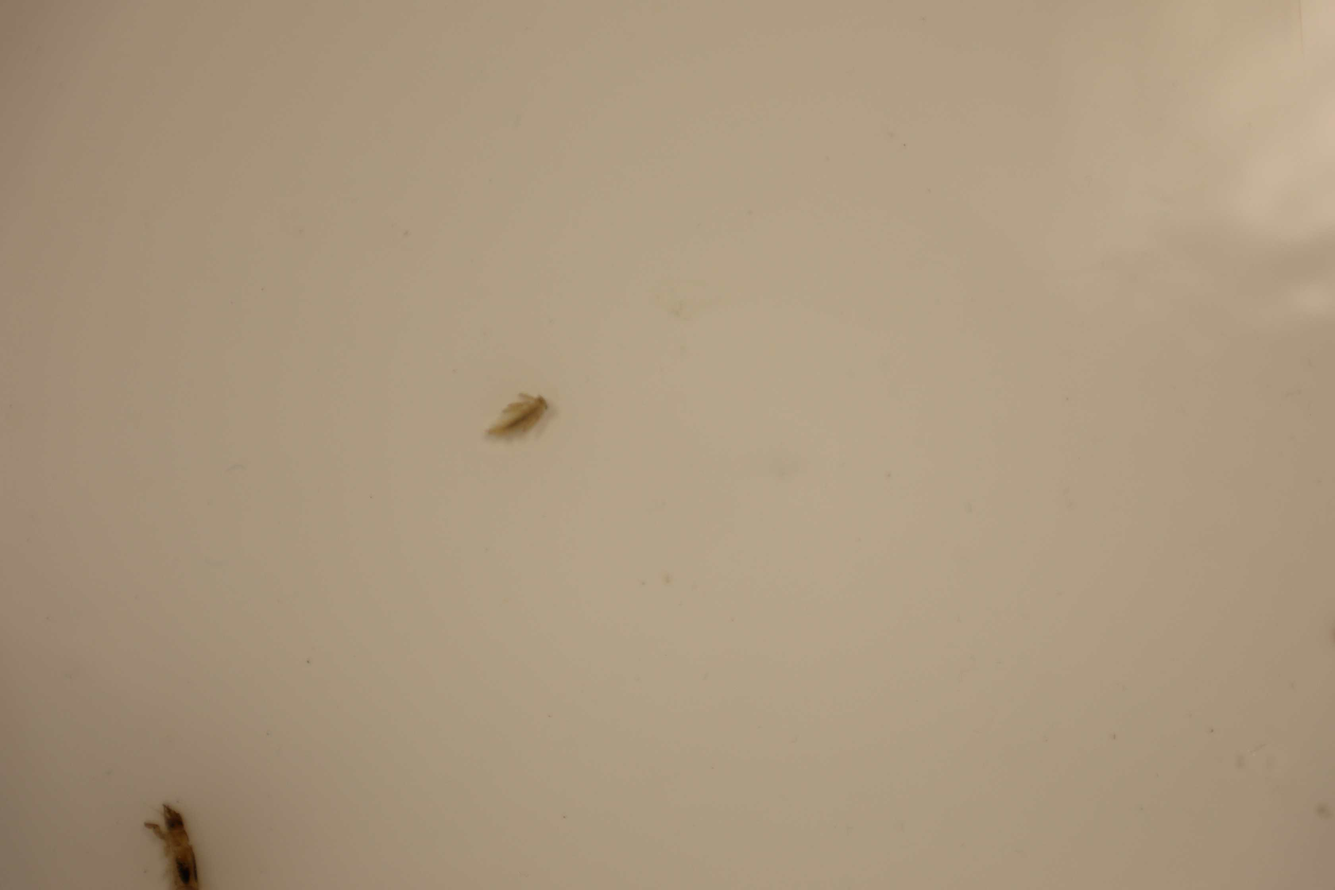Mayfly: (142, 801, 204, 890), (481, 385, 553, 447)
